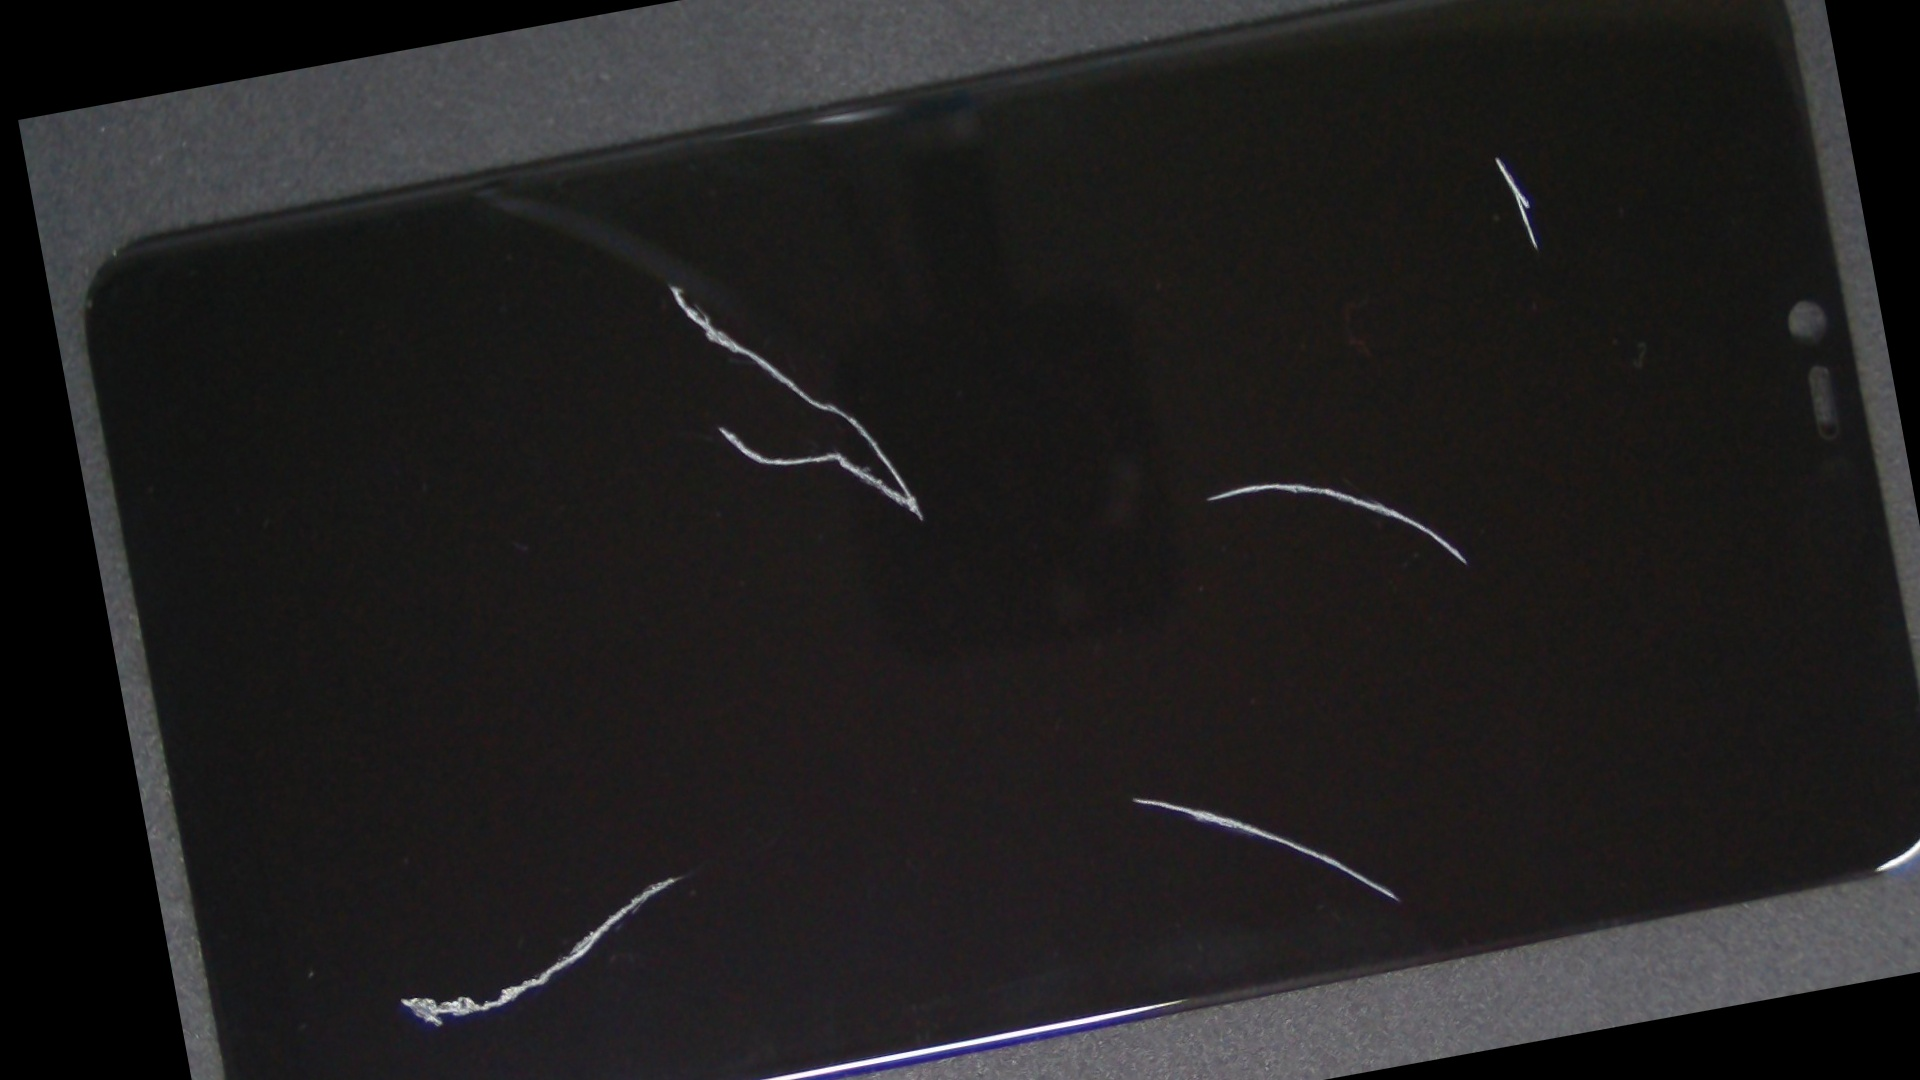oil: (628, 102, 1845, 872), (576, 284, 1669, 1080), (757, 0, 1869, 433), (344, 407, 975, 1080), (342, 92, 990, 472)
